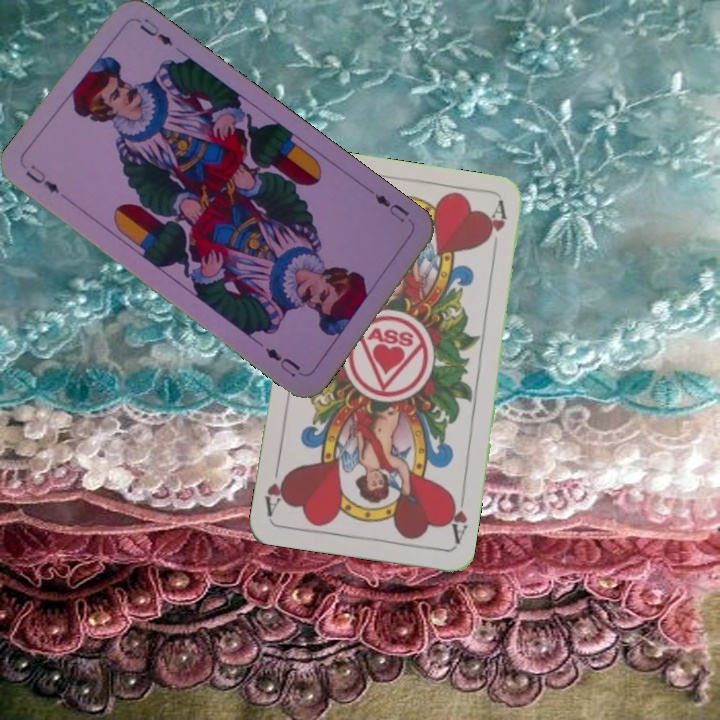EU: (370, 189, 412, 226), (21, 160, 62, 196)
HA: (443, 488, 470, 547)
